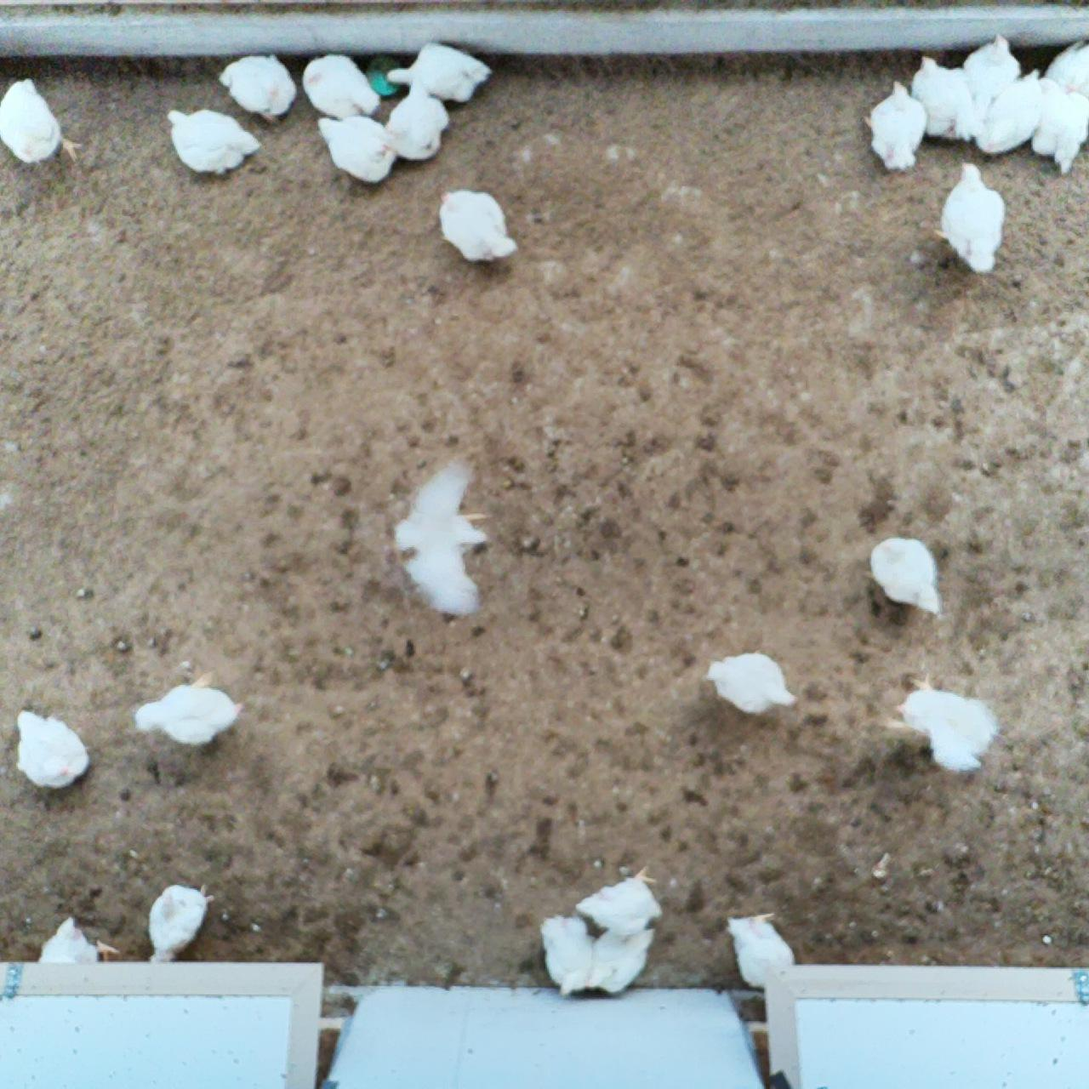chicken: (384, 453, 493, 624), (895, 671, 1003, 777), (931, 156, 1011, 276), (131, 667, 248, 748), (0, 73, 87, 167), (160, 104, 266, 178), (384, 38, 494, 107), (867, 530, 947, 621), (702, 643, 799, 716), (143, 876, 217, 971), (905, 50, 979, 144), (976, 63, 1045, 163), (572, 862, 669, 933), (435, 186, 519, 267), (14, 706, 93, 791), (720, 906, 798, 992), (312, 111, 401, 185), (865, 76, 930, 177), (298, 46, 384, 122), (217, 47, 300, 125), (582, 919, 657, 999), (382, 76, 448, 164), (534, 908, 599, 997), (962, 31, 1025, 114), (35, 917, 121, 970), (1047, 78, 1089, 174), (1022, 75, 1065, 159), (1035, 36, 1089, 100)
